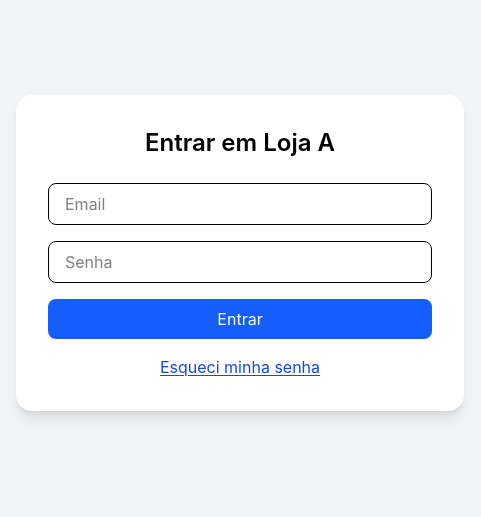
LoginPage › REQ-WEB-RECOVERY-003 requests recovery and shows generic accepted feedback
Type "michel@example.com" into the field labelled "Email" at coordinates (240, 204), box top-left (48, 183), bottom-right (432, 225)
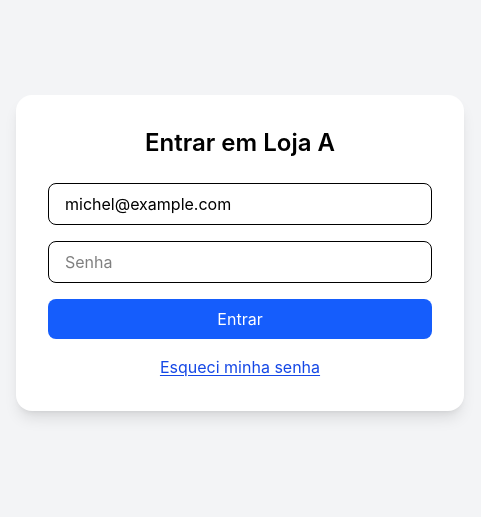
Click the button "Esqueci minha senha" at coordinates (240, 367), box top-left (48, 355), bottom-right (432, 379)
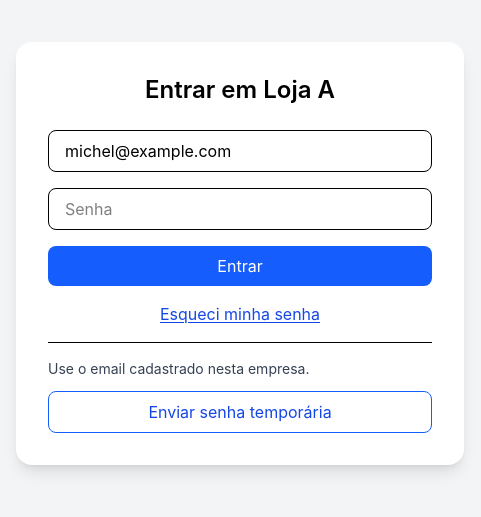
Click the button "Enviar senha temporária" at coordinates (240, 412), box top-left (48, 390), bottom-right (432, 432)
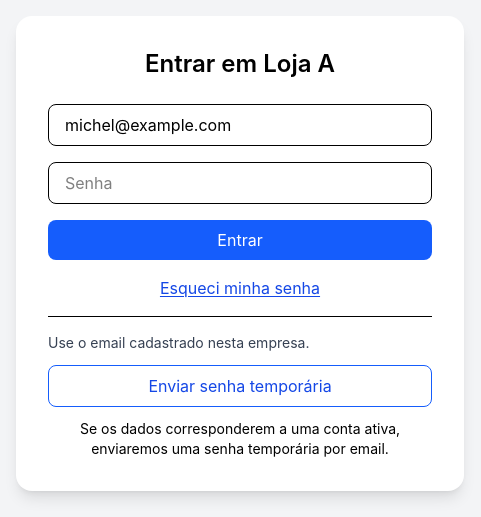
Check: the message shows "Se os dados corresponderem", box top-left (80, 420), bottom-right (400, 456)
